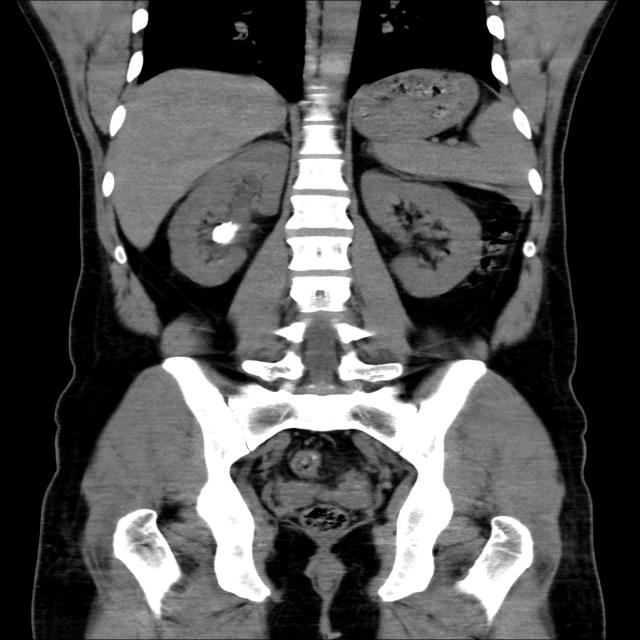kidneystone: (212, 221, 238, 244)
